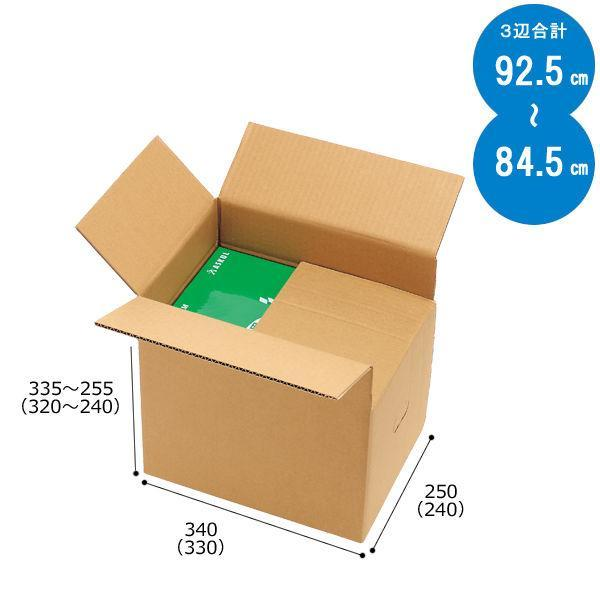box: (75, 115, 454, 549)
